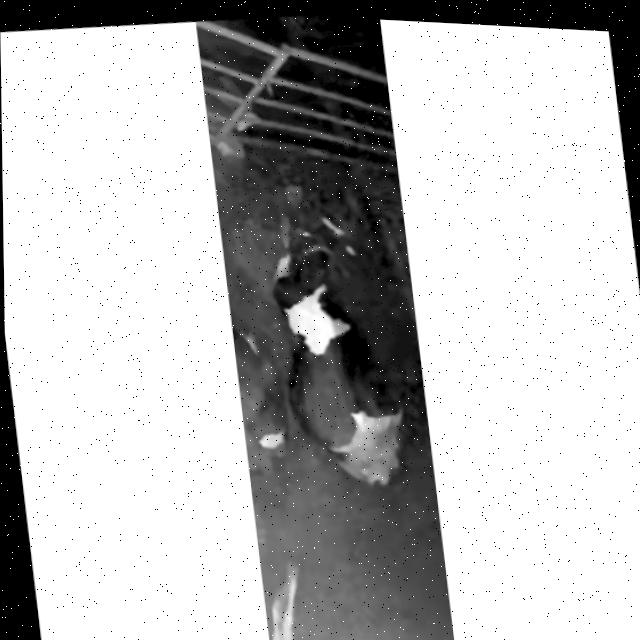lay: (245, 169, 427, 510)
